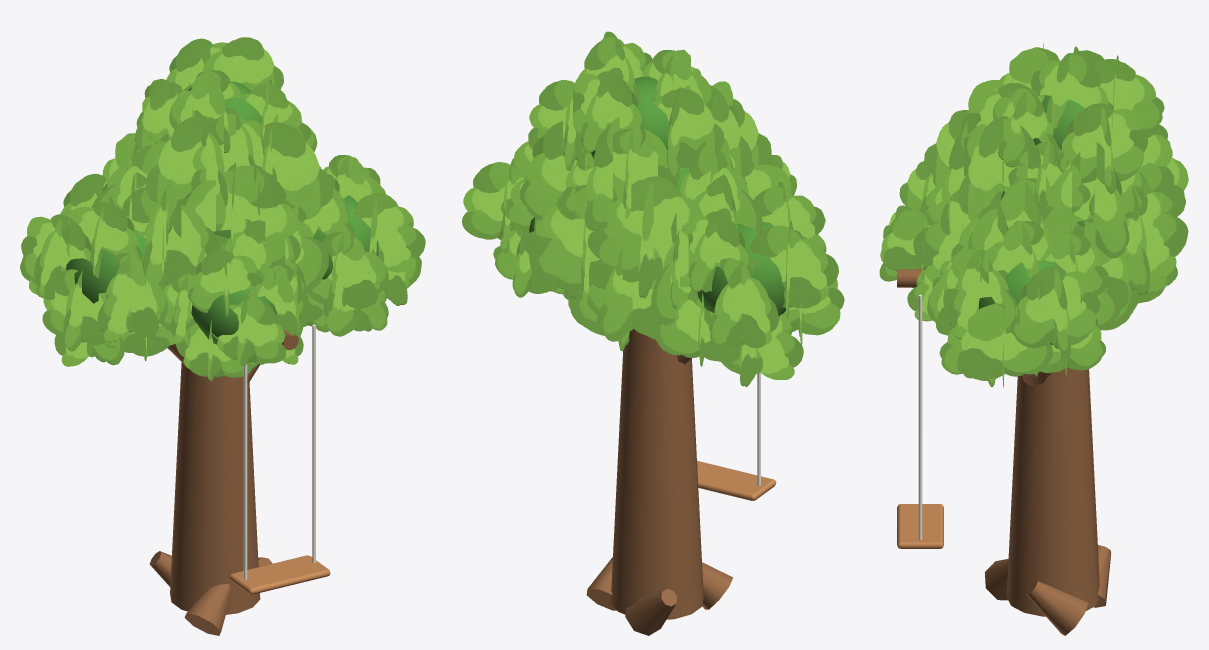
The model's file is swingtree.glb.
The picture shows the model from 3 angles, left to right: view 1: azimuth 30°, elevation 25°; view 2: azimuth 150°, elevation 25°; view 3: azimuth 270°, elevation 25°; orthographic projection. The views are drawn at different scales.
Bounding box in the file's own units: 2.82 × 4.09 × 2.03.
Materials: 12 (1 with a texture image).
